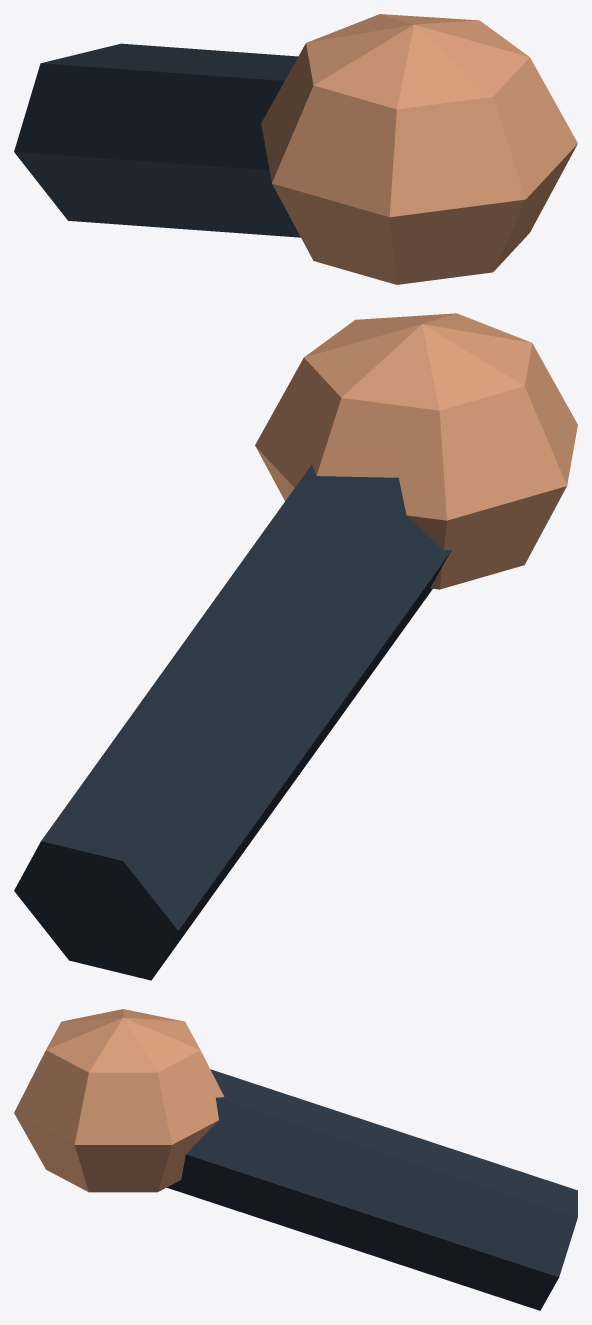
The model's file is controller.glb.
3 views of the same model, one above another, from view 1: azimuth 30°, elevation 25°; view 2: azimuth 150°, elevation 25°; view 3: azimuth 270°, elevation 25° (orthographic). The views are drawn at different scales.
Parts seen in each view (by area): view 1: controller; view 2: controller; view 3: controller.
Boxes of the visible parts, <box> form: controller: <box>14,14,577,284</box>; controller: <box>14,313,577,980</box>; controller: <box>14,1009,577,1310</box>.
Size of the model in its own units: 0.057 by 0.0826 by 0.151.
